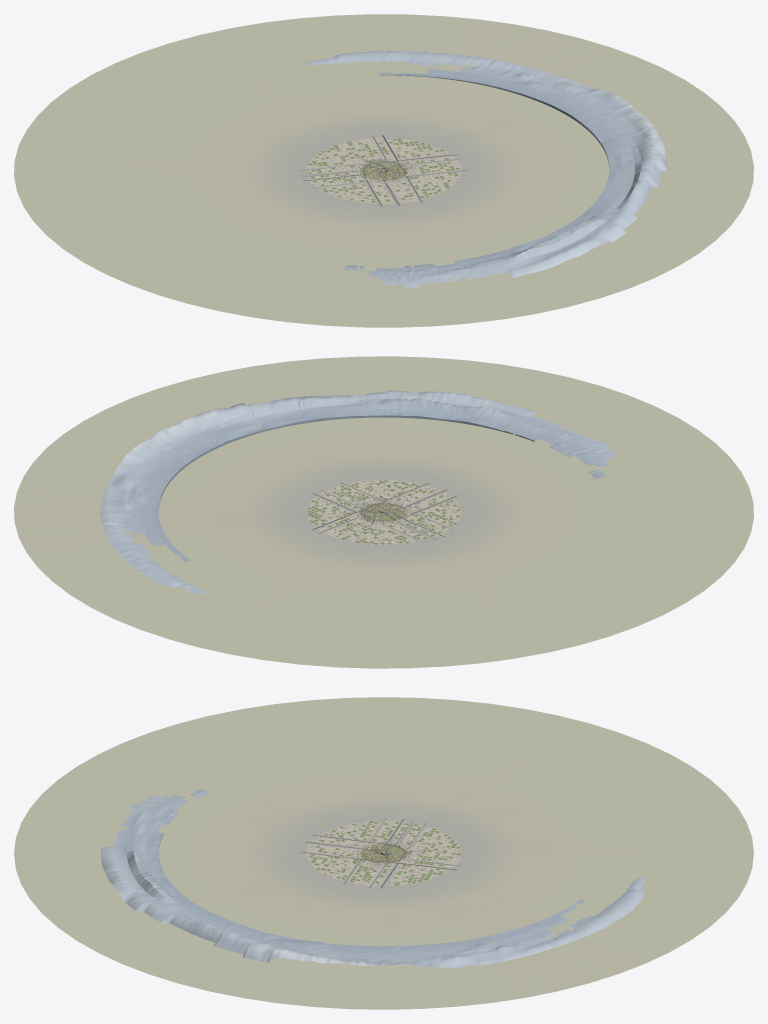
Rendered from shymkent-plaza.glb.
3 renders of one model, top to bottom at view 1: azimuth 30°, elevation 25°; view 2: azimuth 150°, elevation 25°; view 3: azimuth 270°, elevation 25°, orthographic.
Visible parts, largest first — view 1: Context_Far__ctx.farStreet, Context_Mountains__ctx.mountain, Context_Mountains__ctx.mountainFar, Context_Far__site.ground, Context_Far__ctx.clayFar, Context_Far__site.grassDark, Site_Ground__site.ground, Context_Roads__site.asphalt, Context_Buildings__ctx.clayTone; view 2: Context_Far__ctx.farStreet, Context_Mountains__ctx.mountain, Context_Mountains__ctx.mountainFar, Context_Far__site.ground, Context_Far__ctx.clayFar, Context_Far__site.grassDark, Context_Roads__site.asphalt, Site_Ground__site.ground, Context_Buildings__ctx.clayTone; view 3: Context_Far__ctx.farStreet, Context_Mountains__ctx.mountain, Context_Mountains__ctx.mountainFar, Context_Far__site.ground, Context_Far__ctx.clayFar, Context_Far__site.grassDark, Context_Roads__site.asphalt, Site_Ground__site.ground, Context_Buildings__ctx.clayTone.
Part boxes in pixels (<box>): Context_Far__ctx.farStreet: <box>14,14,753,327</box>; Context_Mountains__ctx.mountain: <box>345,62,641,279</box>; Context_Mountains__ctx.mountainFar: <box>306,50,666,287</box>; Context_Far__site.ground: <box>306,137,461,204</box>; Context_Far__ctx.clayFar: <box>307,138,458,203</box>; Context_Far__site.grassDark: <box>308,138,459,202</box>; Site_Ground__site.ground: <box>357,159,410,182</box>; Context_Roads__site.asphalt: <box>301,135,467,206</box>; Context_Buildings__ctx.clayTone: <box>359,159,408,181</box>; Context_Far__ctx.farStreet: <box>14,356,753,668</box>; Context_Mountains__ctx.mountain: <box>126,398,609,562</box>; Context_Mountains__ctx.mountainFar: <box>100,390,617,594</box>; Context_Far__site.ground: <box>306,479,461,544</box>; Context_Far__ctx.clayFar: <box>309,480,459,543</box>; Context_Far__site.grassDark: <box>307,480,460,544</box>; Context_Roads__site.asphalt: <box>312,482,456,542</box>; Site_Ground__site.ground: <box>358,501,409,523</box>; Context_Buildings__ctx.clayTone: <box>359,502,408,522</box>; Context_Far__ctx.farStreet: <box>14,697,753,1009</box>; Context_Mountains__ctx.mountain: <box>126,789,592,959</box>; Context_Mountains__ctx.mountainFar: <box>101,796,645,968</box>; Context_Far__site.ground: <box>306,820,461,886</box>; Context_Far__ctx.clayFar: <box>308,820,460,884</box>; Context_Far__site.grassDark: <box>309,821,460,885</box>; Context_Roads__site.asphalt: <box>301,818,460,888</box>; Site_Ground__site.ground: <box>359,843,408,863</box>; Context_Buildings__ctx.clayTone: <box>359,842,412,864</box>.
Bounding box in the file's own units: 23000 × 384 × 23000.
